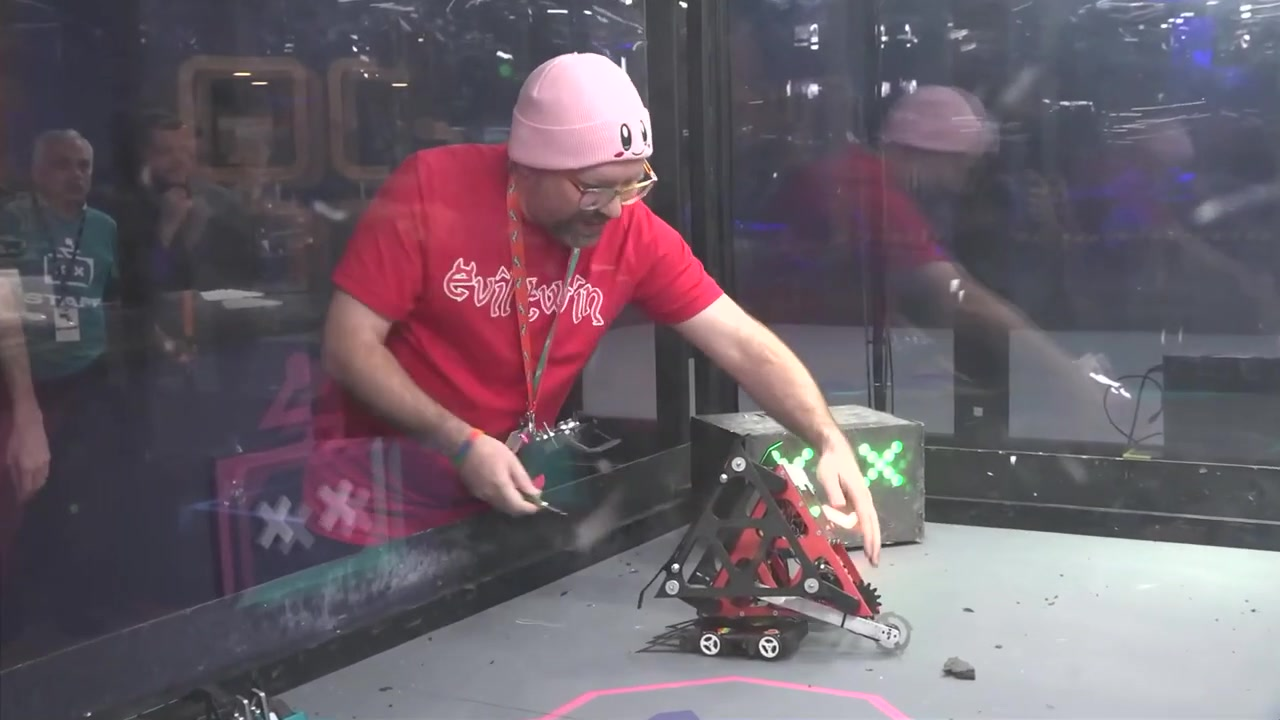combatbot: (656, 452, 879, 617), (141, 686, 302, 720)
housebot: (688, 404, 926, 554)
minibot: (690, 616, 801, 661)
